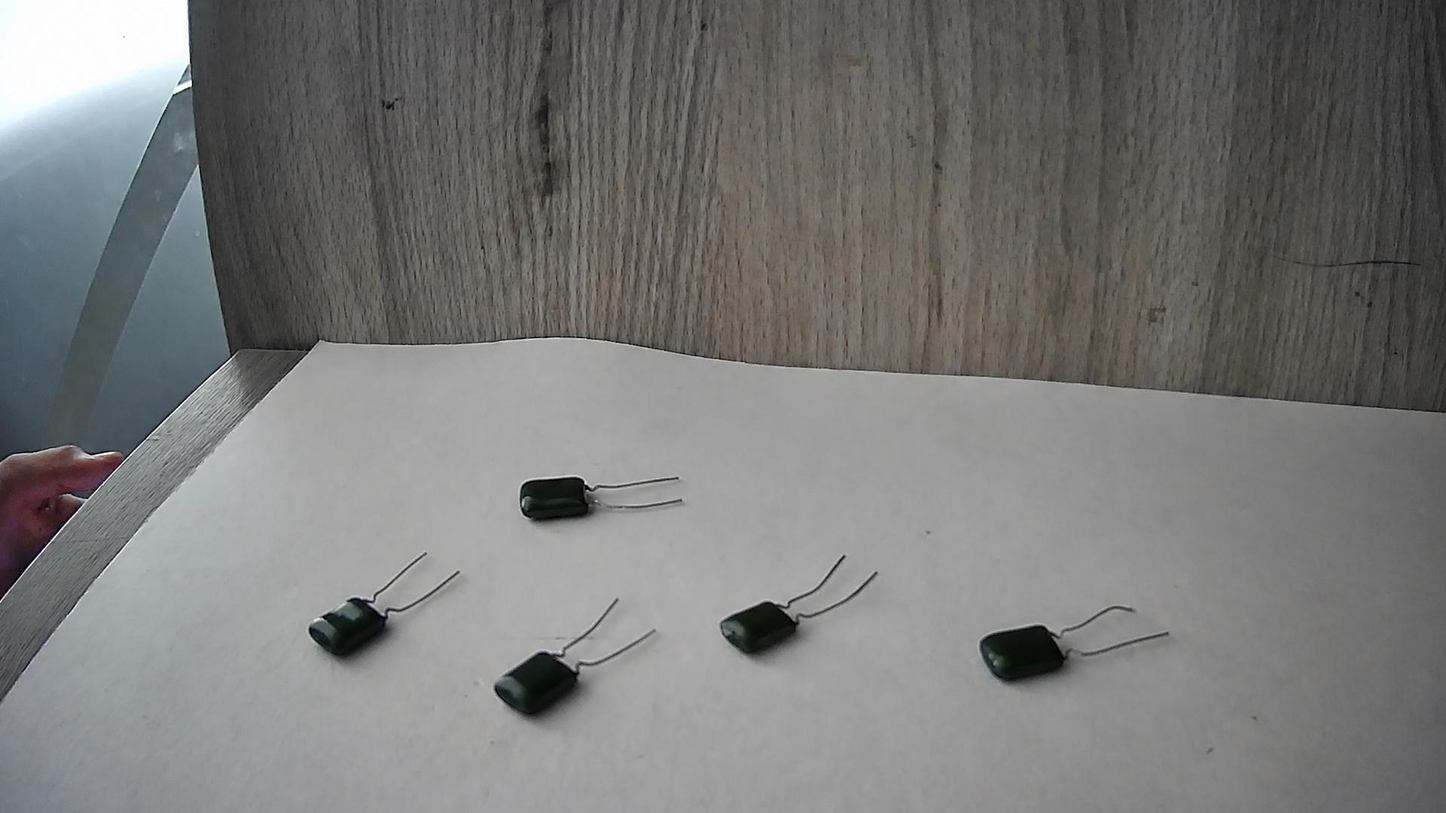capacitor ceramico: (489, 584, 665, 752), (703, 538, 898, 663), (296, 553, 481, 668), (974, 592, 1185, 692), (519, 461, 686, 536)
